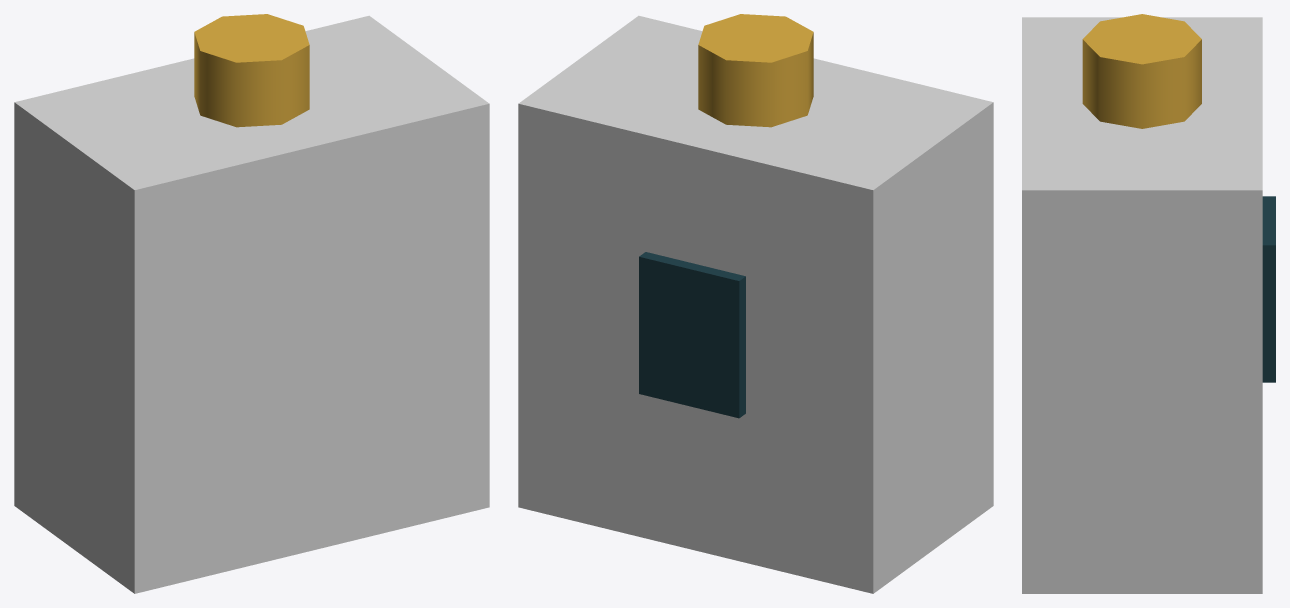
File: LegoTorso.glb
3 renders of one model, left to right at view 1: azimuth 30°, elevation 25°; view 2: azimuth 150°, elevation 25°; view 3: azimuth 270°, elevation 25°, orthographic.
Visible parts, largest first — view 1: LegoTorso; view 2: LegoTorso; view 3: LegoTorso.
Boxes of the visible parts, bbox=[...] form: LegoTorso: bbox=[14, 14, 489, 593]; LegoTorso: bbox=[518, 14, 993, 593]; LegoTorso: bbox=[1022, 14, 1275, 593].
Bounding box in the file's own units: 0.46 × 0.58 × 0.285.
